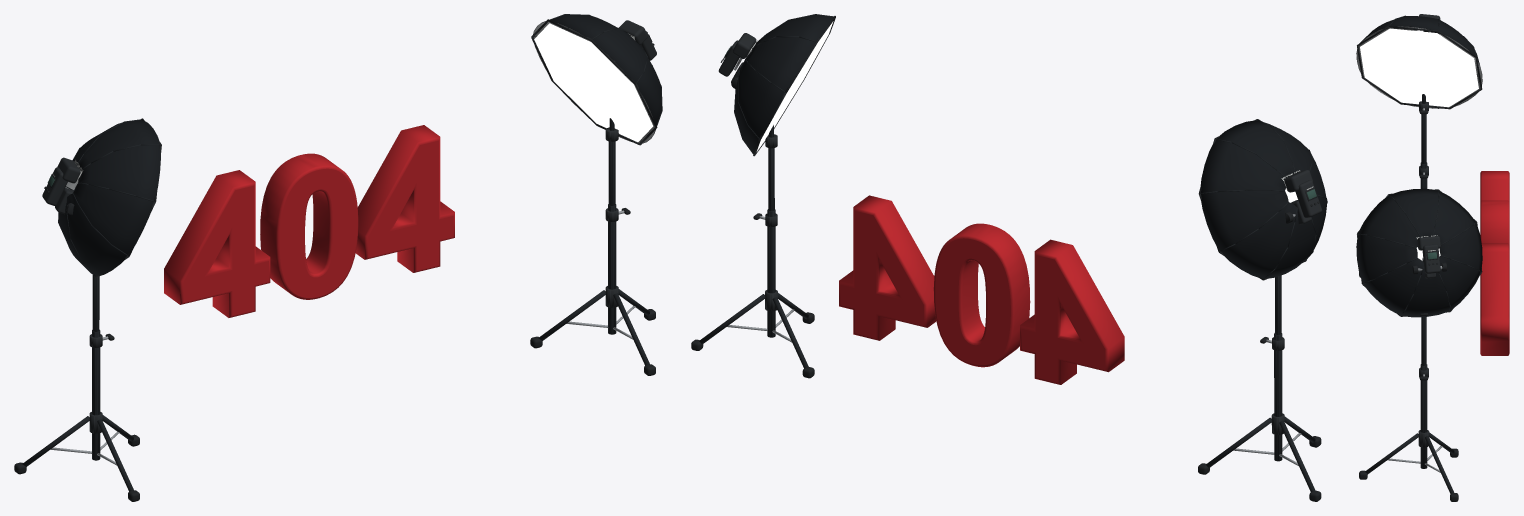
Rendered from R59MEDIA_404_Mobile.glb.
The picture shows the model from 3 angles, left to right: view 1: azimuth 30°, elevation 25°; view 2: azimuth 150°, elevation 25°; view 3: azimuth 270°, elevation 25°; orthographic projection. The views are drawn at different scales.
Parts seen in each view (by area): view 1: 404Text_Mesh, LeftHead_Mesh, RightDiffuser, RightHead_Mesh, RightStand_Mesh, LeftStand_Mesh; view 2: 404Text_Mesh, LeftHead_Mesh, RightHead_Mesh, RightStand_Mesh, LeftStand_Mesh, RightDiffuser; view 3: RightHead_Mesh, LeftDiffuser, 404Text_Mesh, LeftHead_Mesh, RightStand_Mesh, LeftStand_Mesh.
Part boxes in pixels (x1,y1,x2,y2): 404Text_Mesh: (164,125,454,317); LeftHead_Mesh: (42,118,161,277); RightDiffuser: (534,23,653,142); RightHead_Mesh: (531,14,662,145); RightStand_Mesh: (530,118,655,375); LeftStand_Mesh: (14,274,139,501); 404Text_Mesh: (839,195,1124,384); LeftHead_Mesh: (1198,119,1327,280); RightHead_Mesh: (718,14,835,156); RightStand_Mesh: (691,125,814,378); LeftStand_Mesh: (1198,275,1321,501); RightDiffuser: (756,21,833,151); RightHead_Mesh: (1356,188,1482,317); LeftDiffuser: (1360,28,1478,107); 404Text_Mesh: (1480,171,1509,355); LeftHead_Mesh: (1356,14,1482,109); RightStand_Mesh: (1359,258,1458,501); LeftStand_Mesh: (1359,94,1428,277).
Size of the model in its own units: 4.58 by 2.31 by 1.19.
